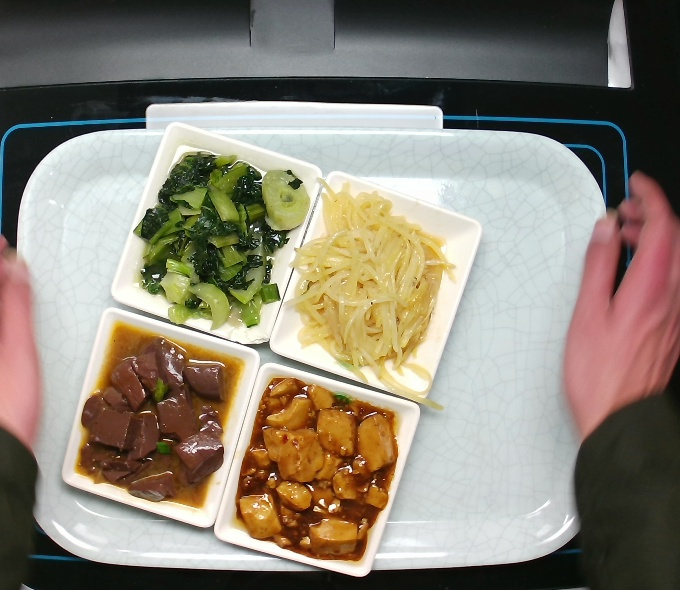wcq-MaPoDouFu: (245, 386, 396, 553)
wcq-NiuXue: (80, 334, 235, 500)
wcq-TuDouSi: (289, 192, 453, 373)
wcq-YouDongCai: (120, 145, 300, 335)
